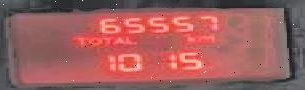0: (115, 51, 139, 70)
1: (166, 50, 176, 70), (104, 53, 115, 70)
5: (177, 50, 201, 69), (169, 14, 193, 31), (144, 15, 166, 32), (120, 15, 142, 32)
6: (94, 16, 118, 34)
7: (196, 14, 220, 29)
X: (195, 34, 214, 43), (70, 35, 86, 44), (86, 35, 99, 45), (182, 33, 192, 44), (123, 35, 134, 44), (113, 35, 123, 44), (99, 35, 110, 42)
